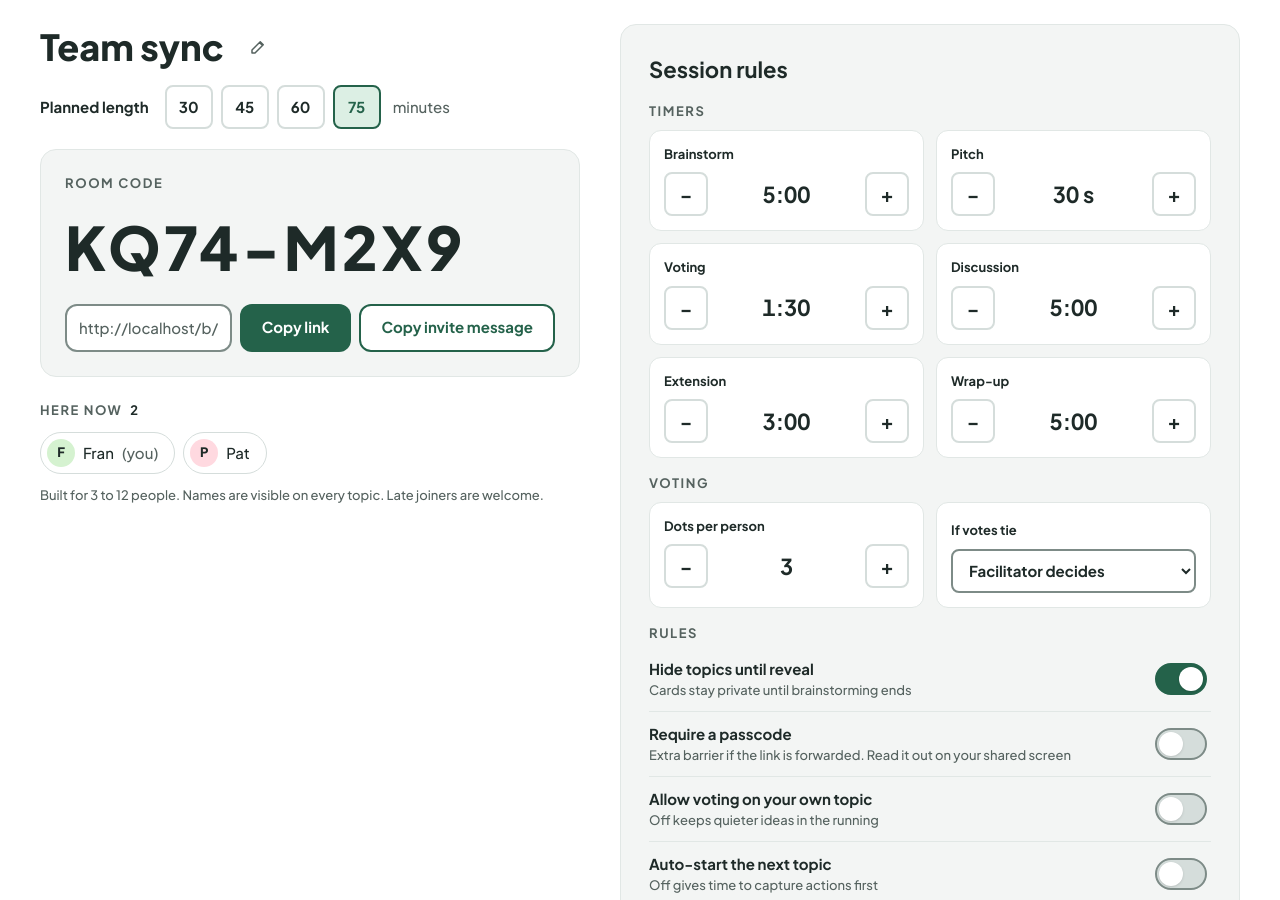
it: Lobby pitch and wrap-up timers › adds up quick presses before the server echoes them
Click the button named "Decrease Brainstorm". click: (686, 194)
box: [664,172,708,216]
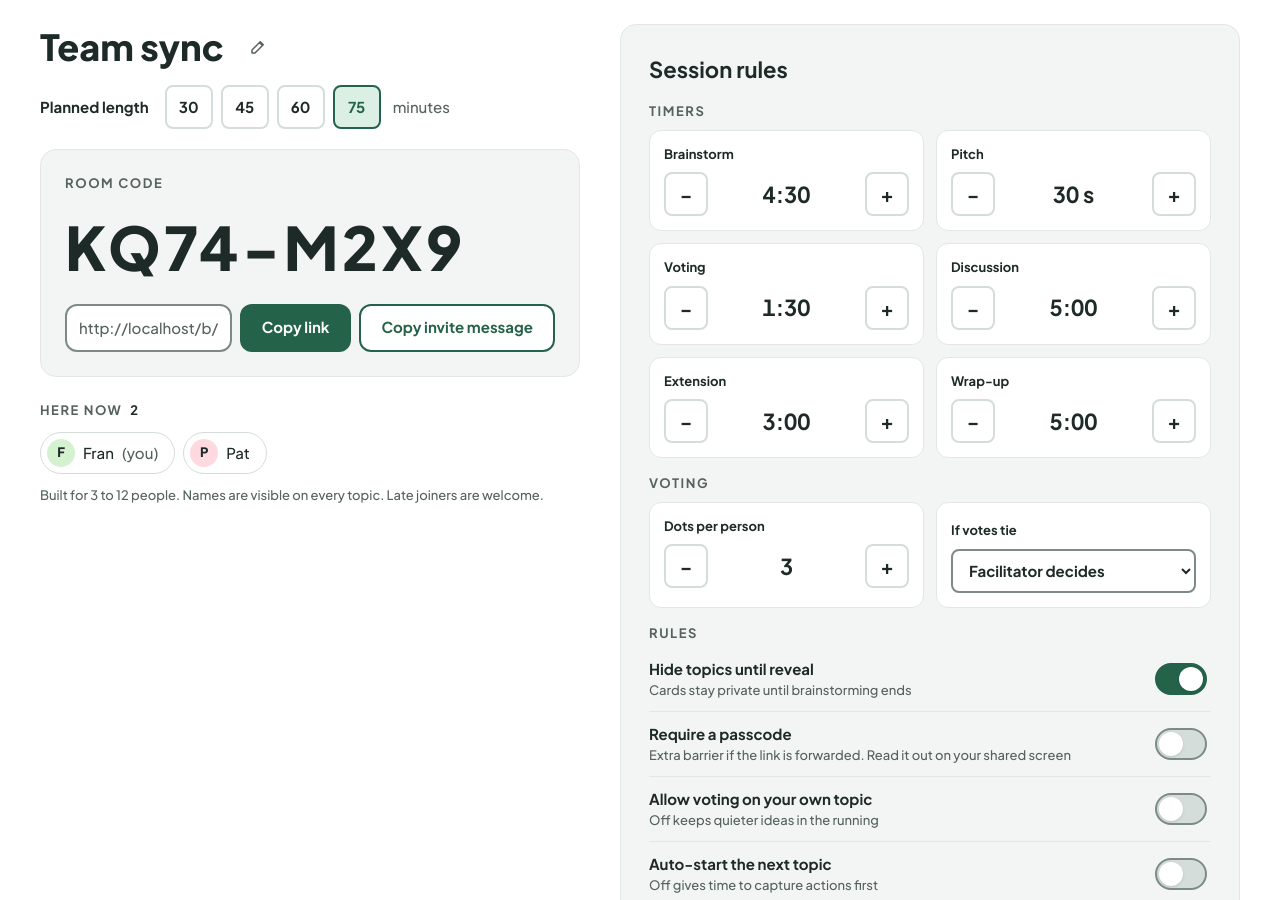
Click the button named "Decrease Brainstorm". click: (686, 194)
box: [664,172,708,216]
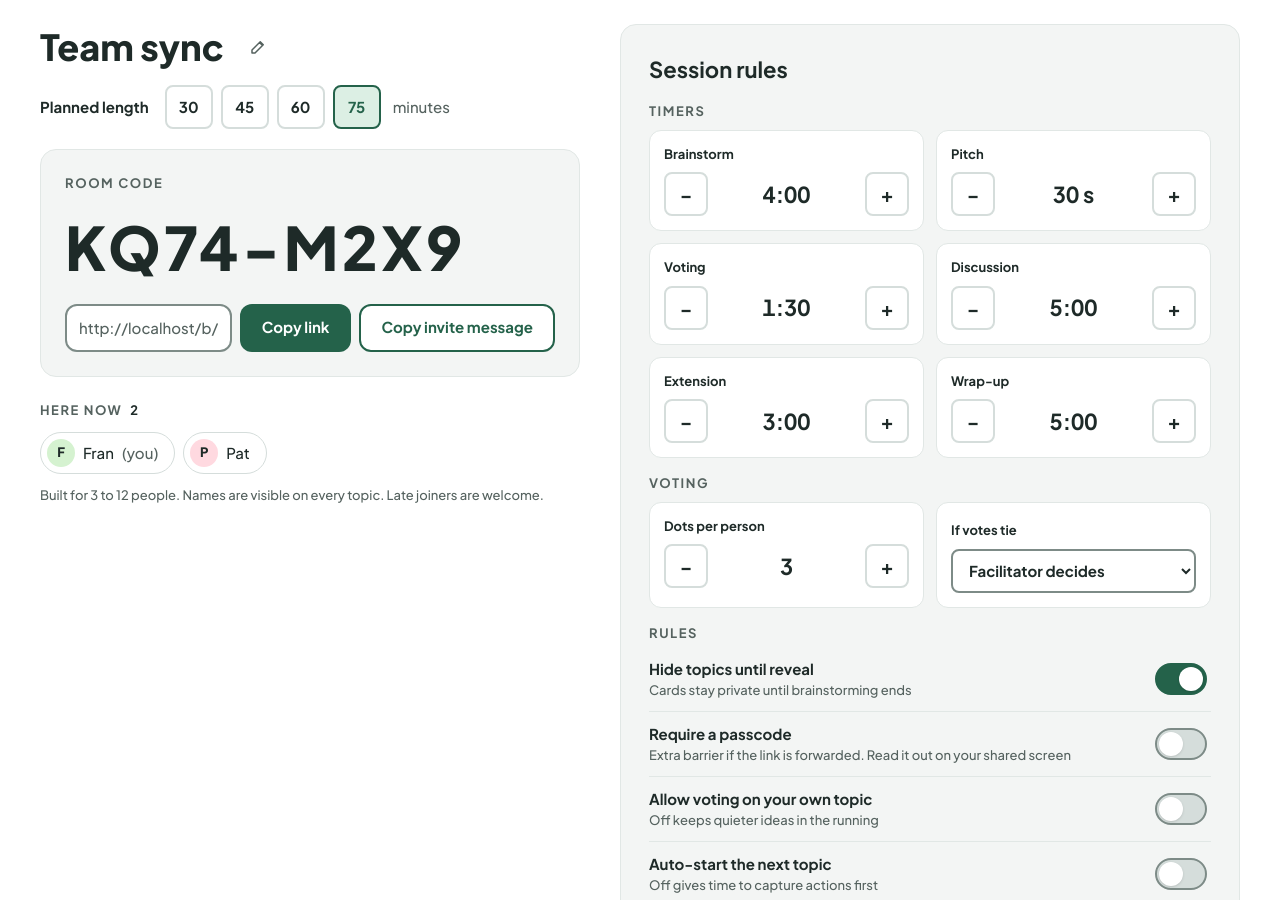
Click the button named "Decrease Brainstorm". click: (686, 194)
box: [664,172,708,216]
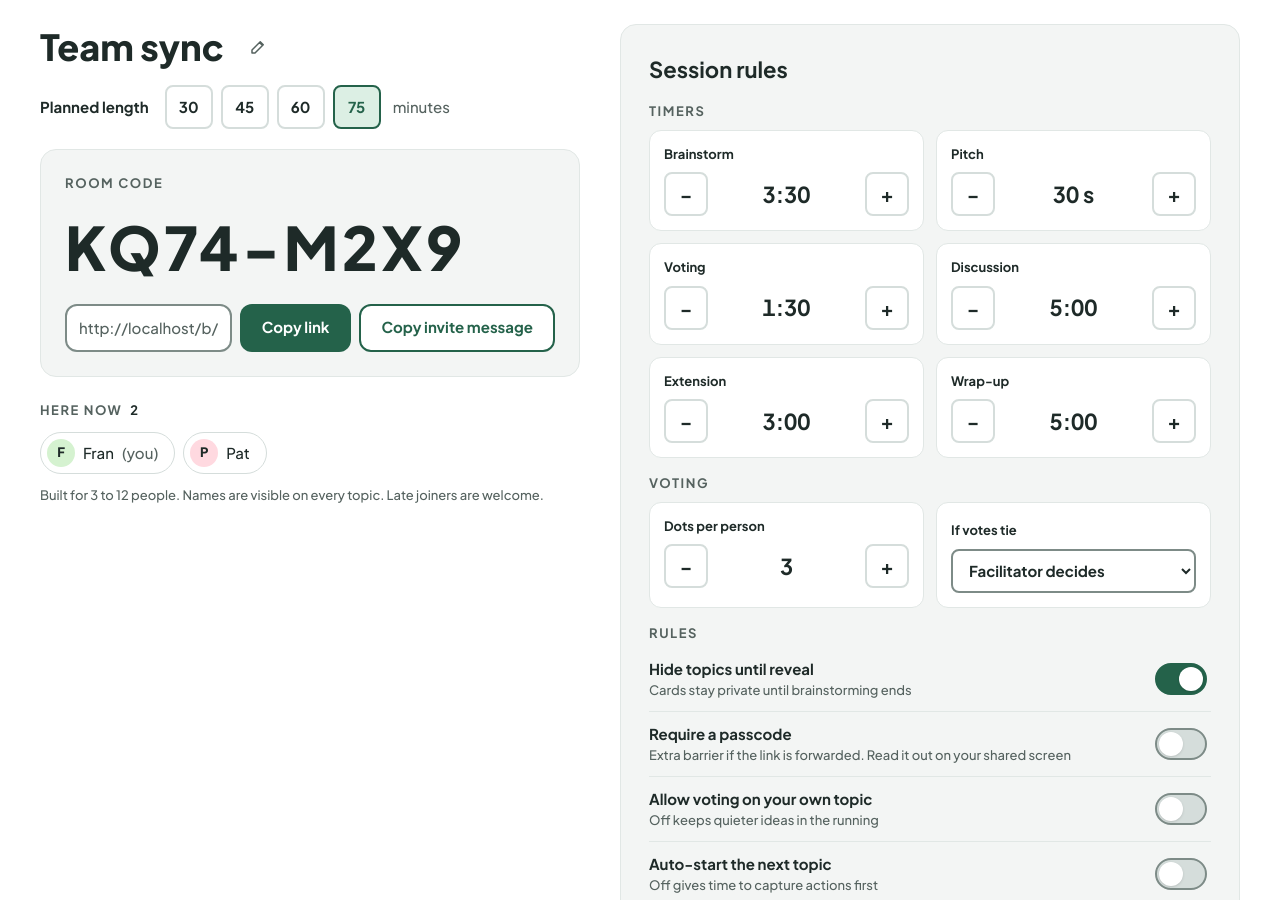
Click the button named "Decrease Brainstorm". click: (686, 194)
box: [664,172,708,216]
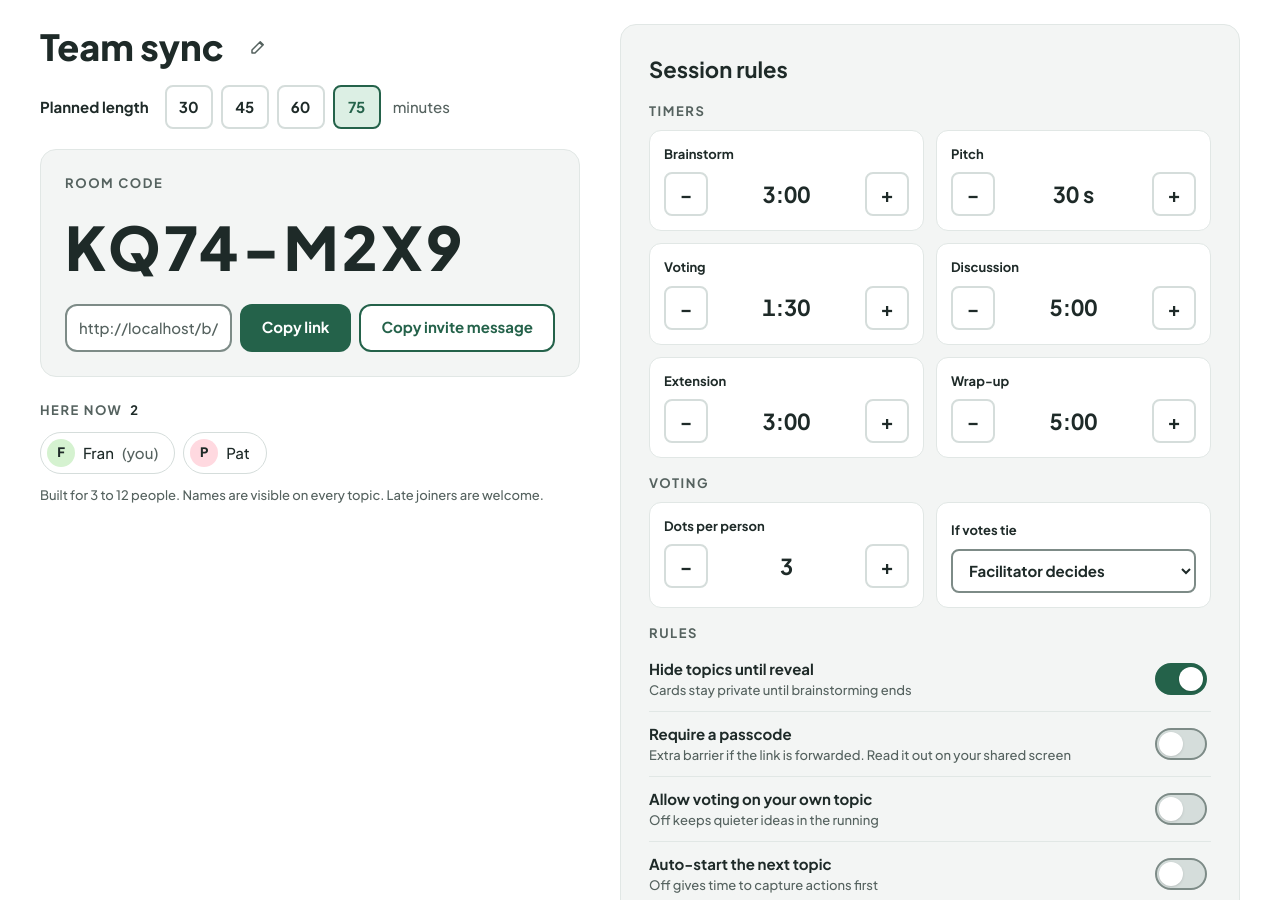
Click the button named "Decrease Brainstorm". click: (686, 194)
box: [664,172,708,216]
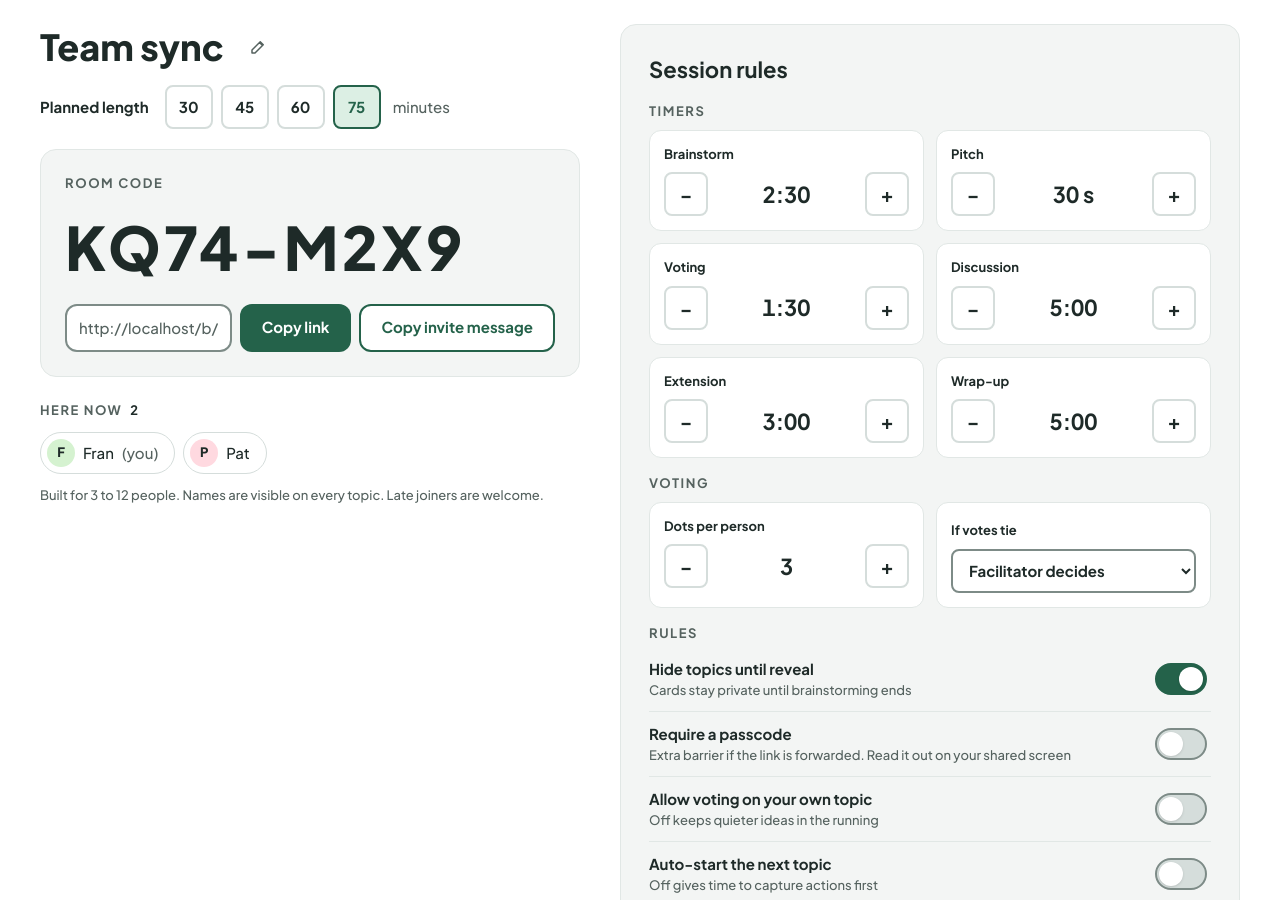
Click the button named "Decrease Brainstorm". click: (686, 194)
box: [664,172,708,216]
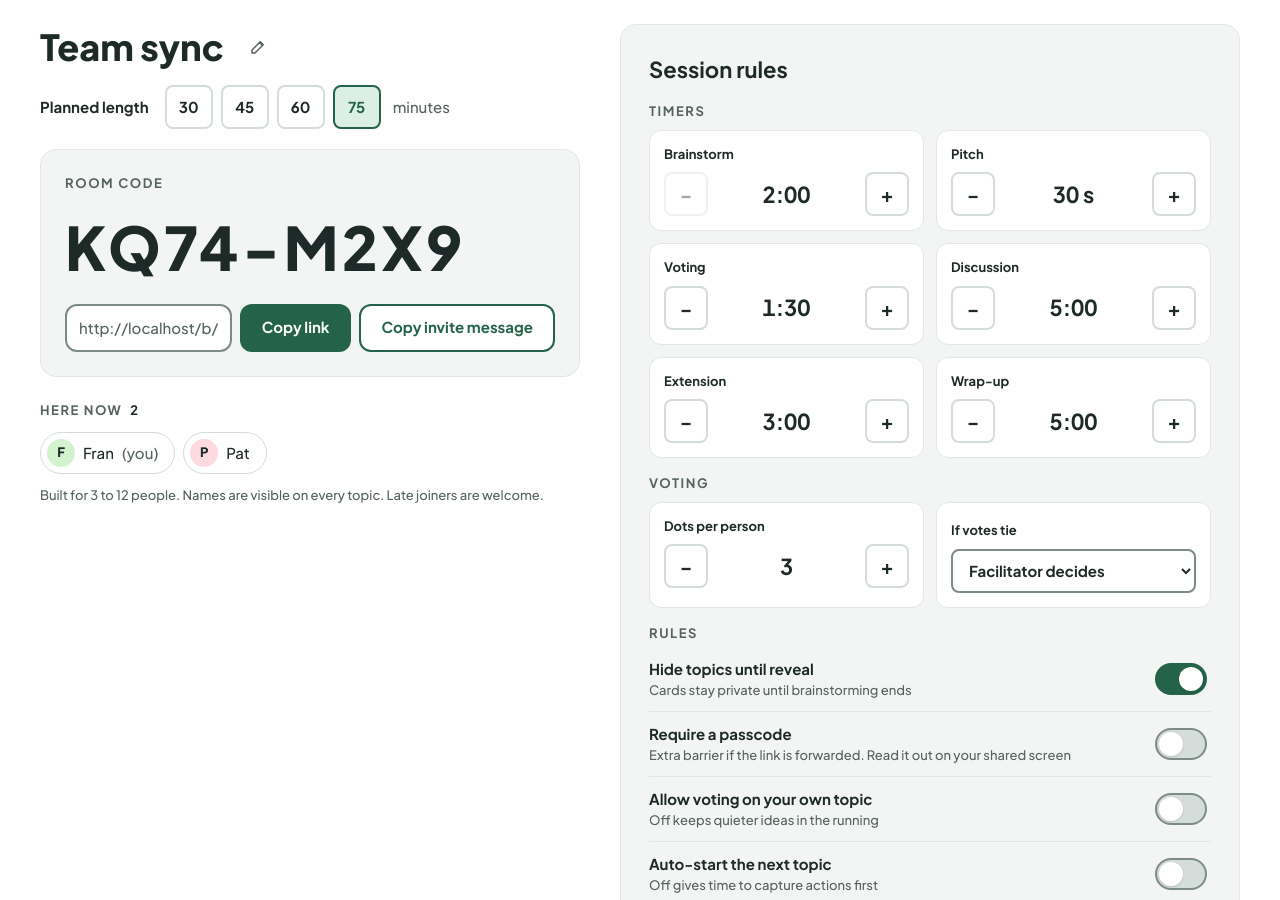
Expected: the element named "Brainstorm" shows "2:00", [762,180,810,208]
